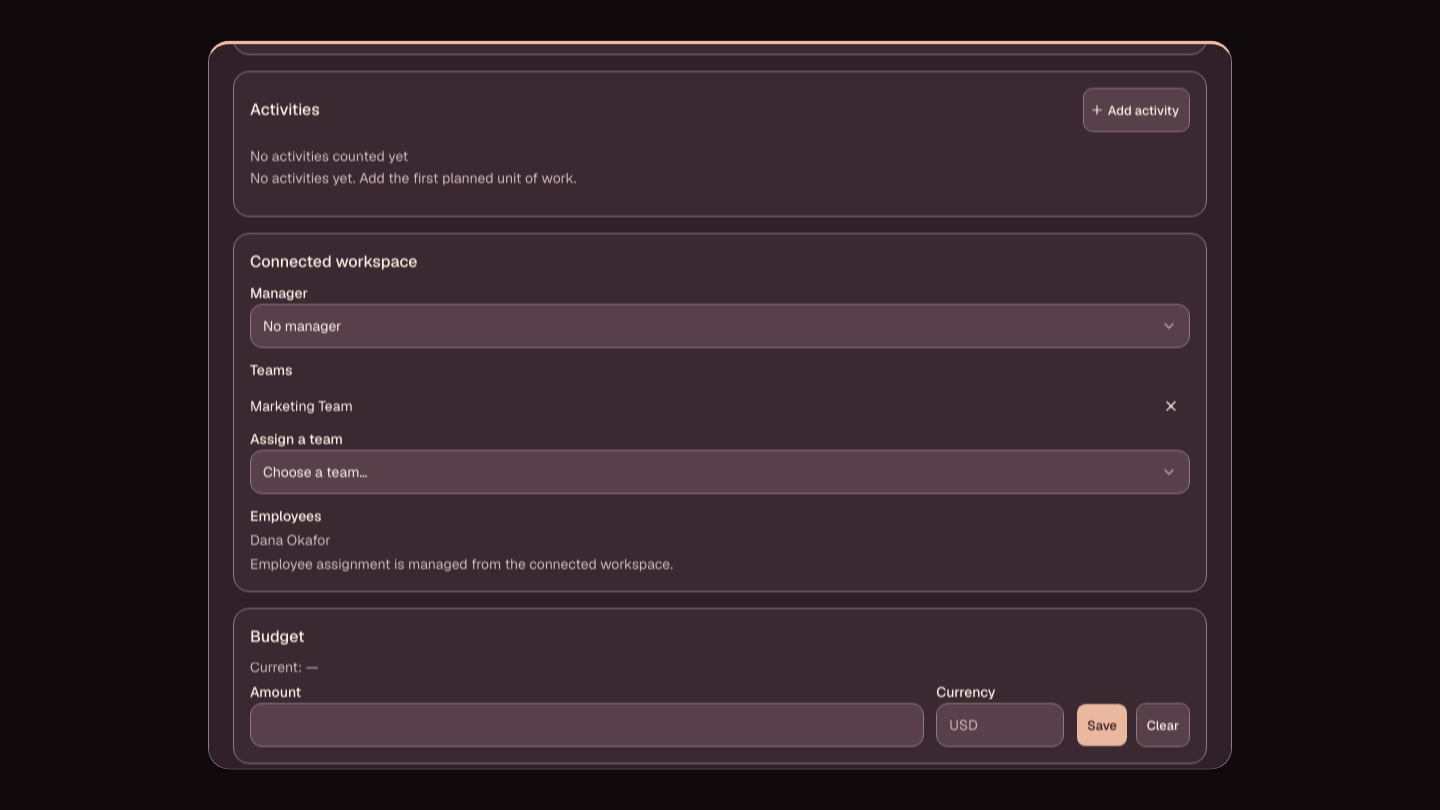
Test: CampaignDetailDialog › connected workspace › explains a failed team change (team_not_found)
This screenshot has width=1440, height=810.
(page scrolled)
Click the button named "Unassign Marketing Team" at {"x": 1171, "y": 407}, box left=1152, top=385, right=1190, bottom=429
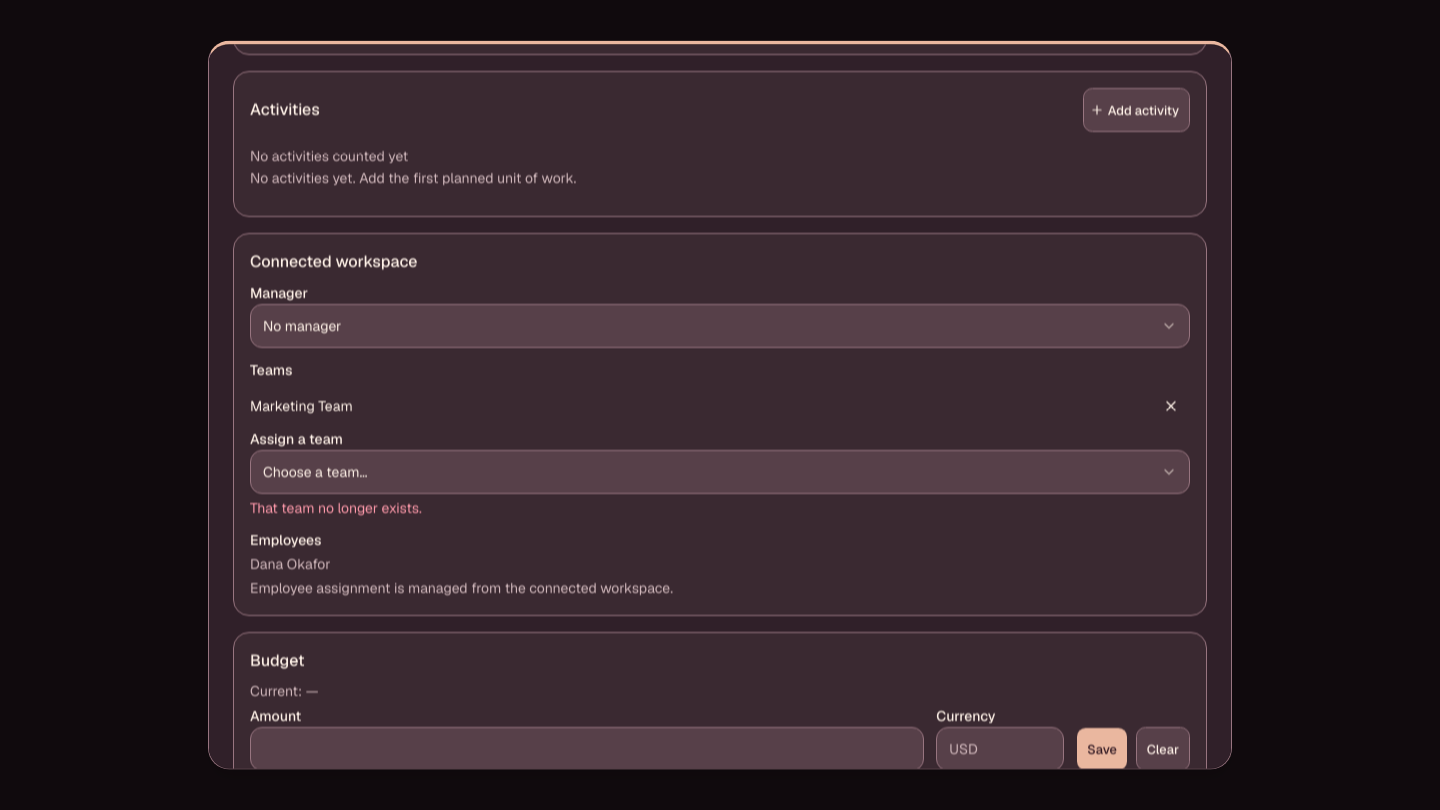
Check: the text "That team no longer exists." is shown, box left=250, top=500, right=422, bottom=518
